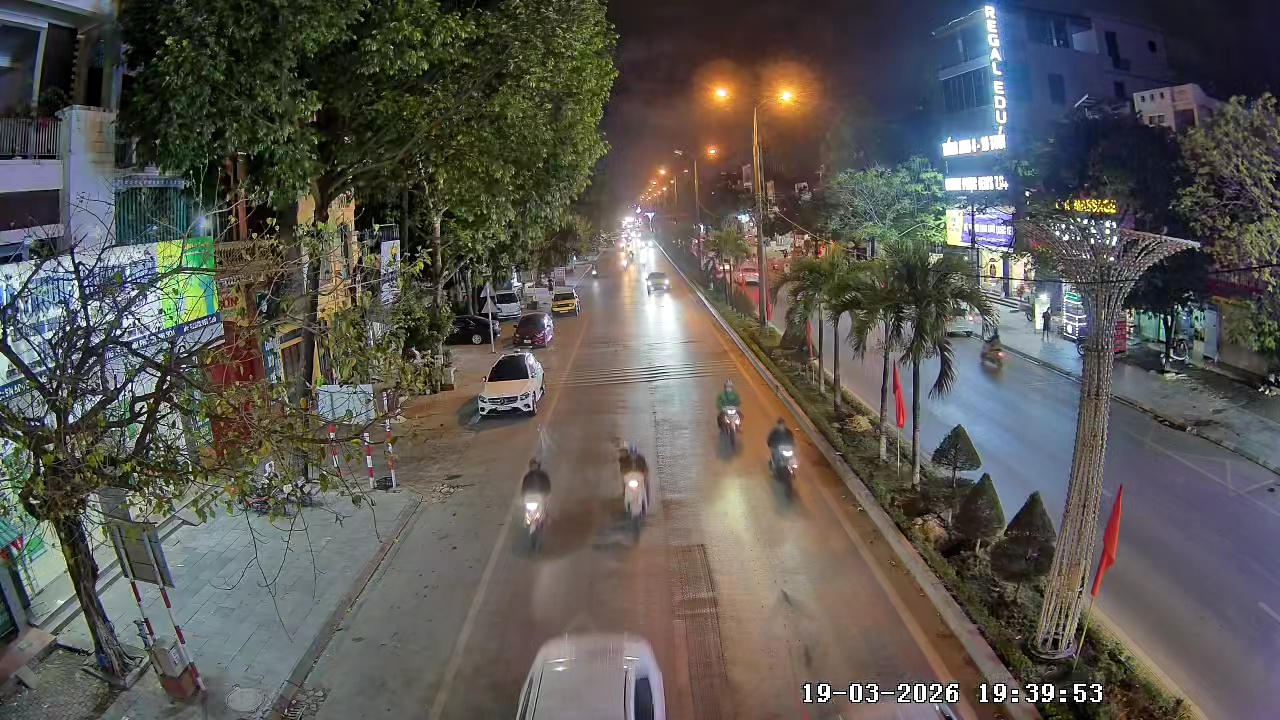car: (511, 631, 672, 719), (476, 349, 547, 420), (514, 311, 554, 347), (552, 283, 581, 316), (645, 269, 675, 295)
motorbike: (516, 454, 554, 552), (618, 442, 654, 540), (763, 416, 803, 501), (714, 377, 746, 456)
